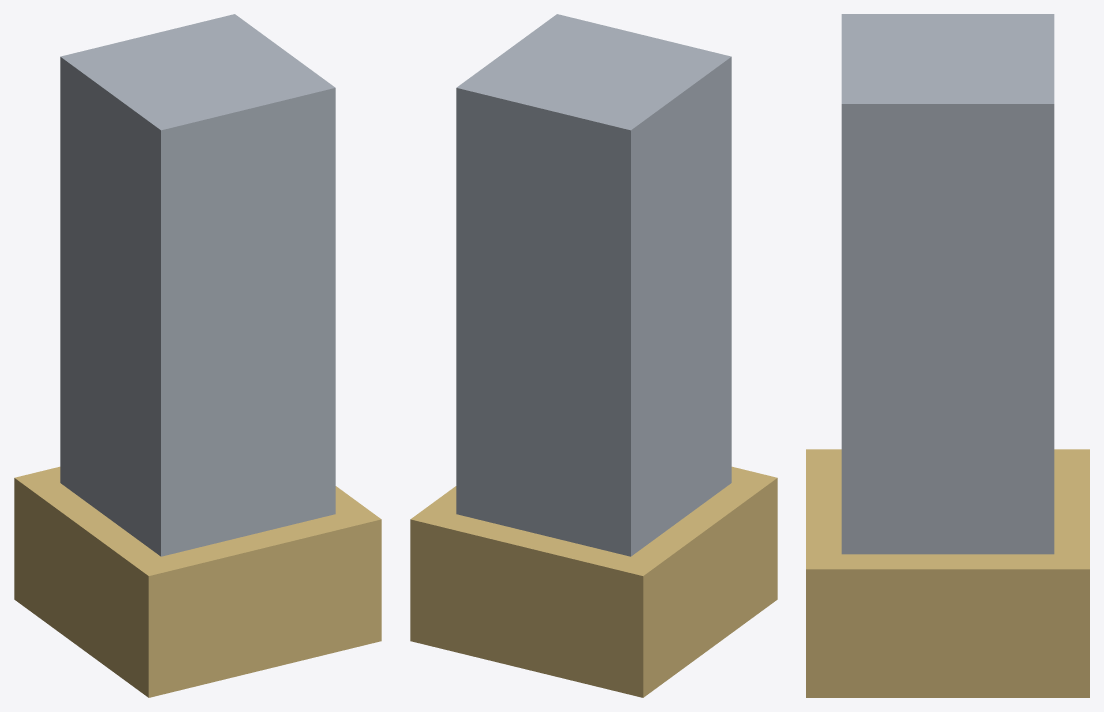
The model's file is fork_outer.obj.
The picture shows the model from 3 angles, left to right: view 1: azimuth 30°, elevation 25°; view 2: azimuth 150°, elevation 25°; view 3: azimuth 270°, elevation 25°; orthographic projection. The views are drawn at different scales.
Parts seen in each view (by area): view 1: fork_outer; view 2: fork_outer; view 3: fork_outer.
Boxes of the visible parts, x1,y1,x2,y2 form: fork_outer: (14,14,381,697); fork_outer: (410,14,777,697); fork_outer: (806,14,1089,697).
Size of the model in its own units: 0.25 by 0.5625 by 0.25.
